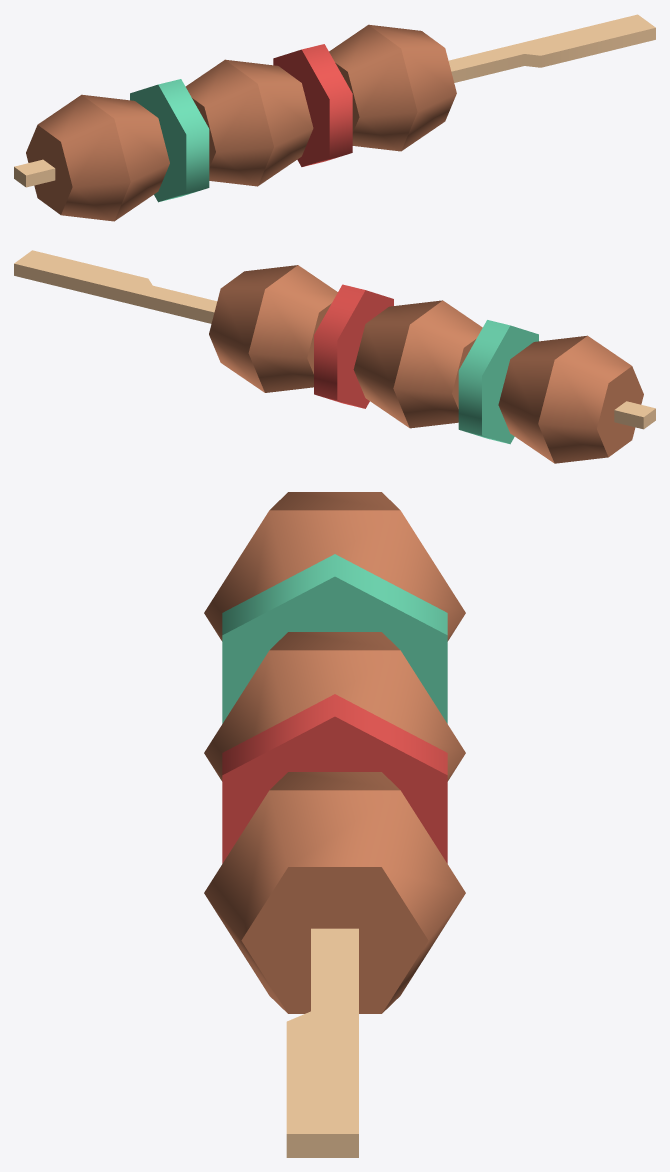
File: Skewer_Vegetables.glb
The picture shows the model from 3 angles, top to bottom: view 1: azimuth 30°, elevation 25°; view 2: azimuth 150°, elevation 25°; view 3: azimuth 270°, elevation 25°; orthographic projection. The views are drawn at different scales.
Parts seen in each view (by area): view 1: skewerVegetables; view 2: skewerVegetables; view 3: skewerVegetables.
Part boxes in pixels (bbox=[...]): skewerVegetables: bbox=[14, 14, 655, 221]; skewerVegetables: bbox=[14, 250, 655, 463]; skewerVegetables: bbox=[204, 492, 465, 1157].
Bounding box in the file's own units: 0.5967 × 0.1077 × 0.1085.
